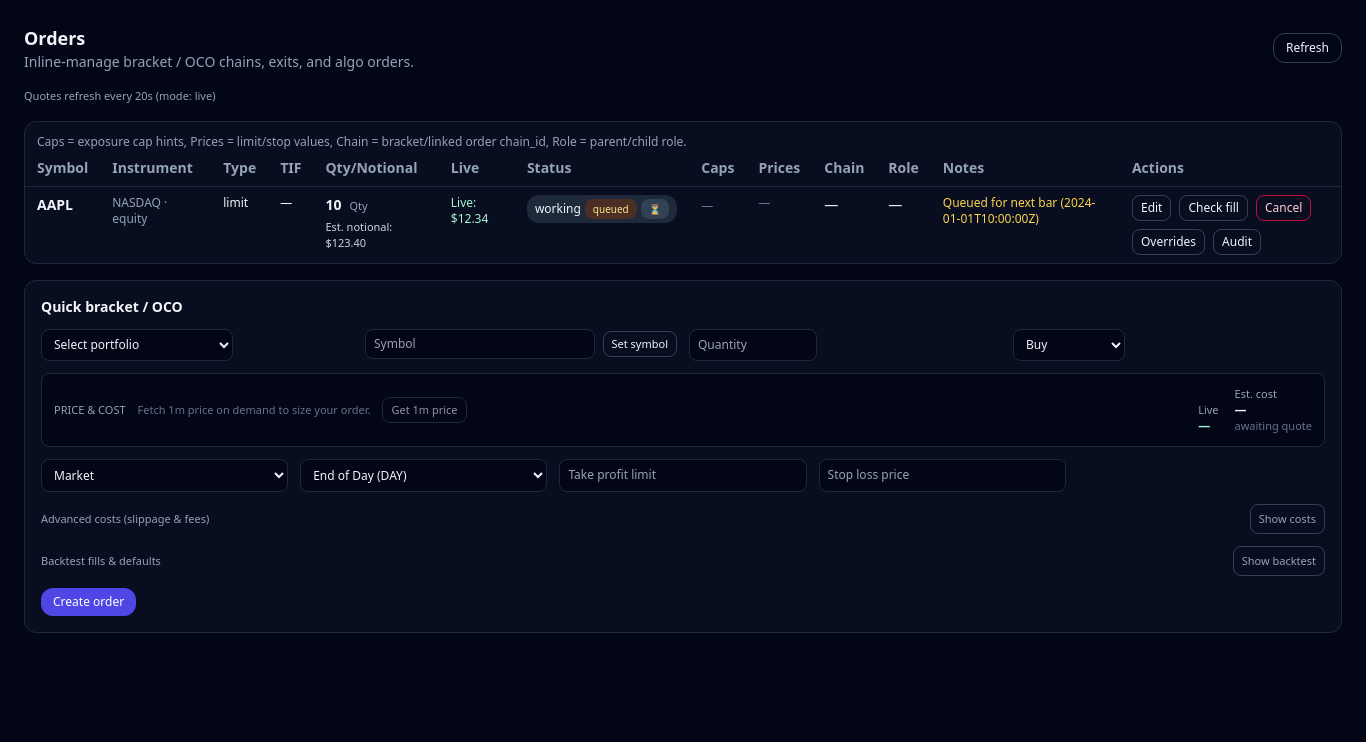
Scenario: Orders page › renders TradingView micro view when symbol is entered
Type "MSFT" into the field with placeholder "Symbol" at x=480, y=344, box [365, 328, 594, 358]
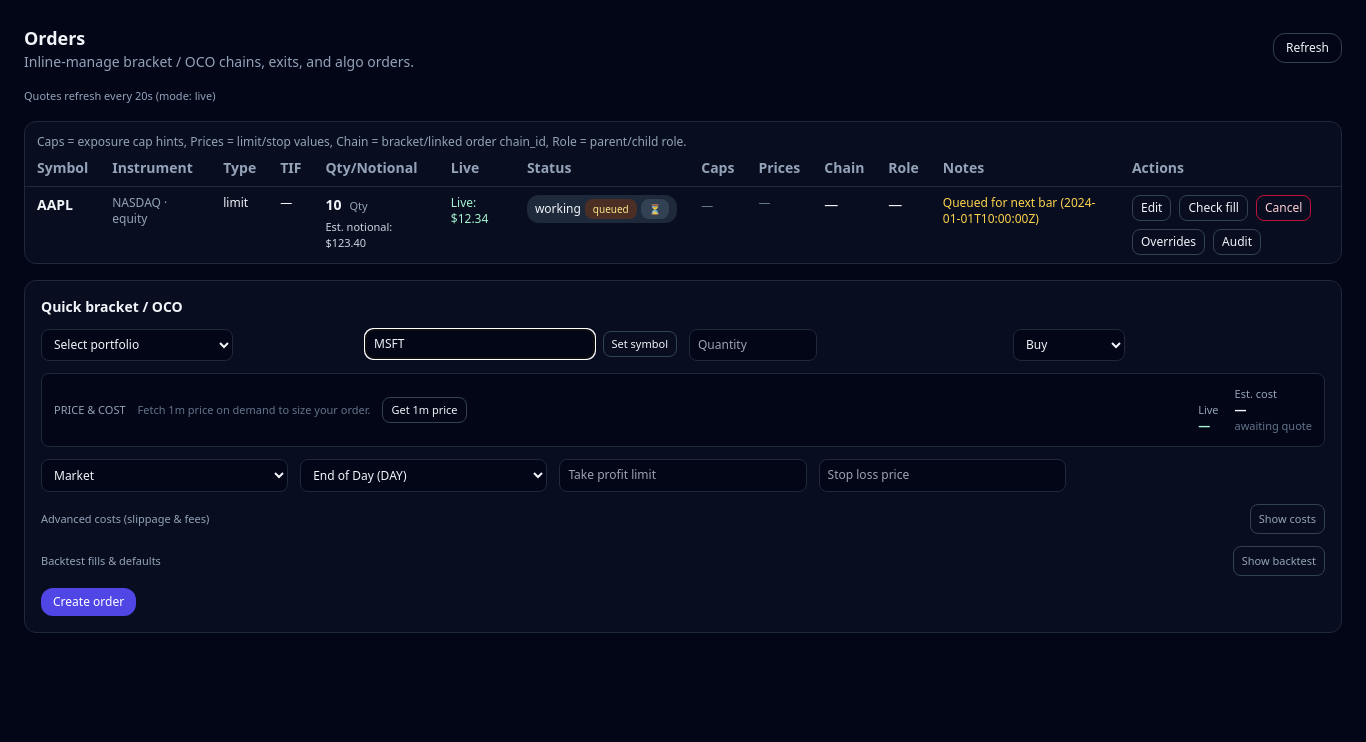
Click the button "Set symbol" at x=640, y=344, box [602, 330, 677, 356]
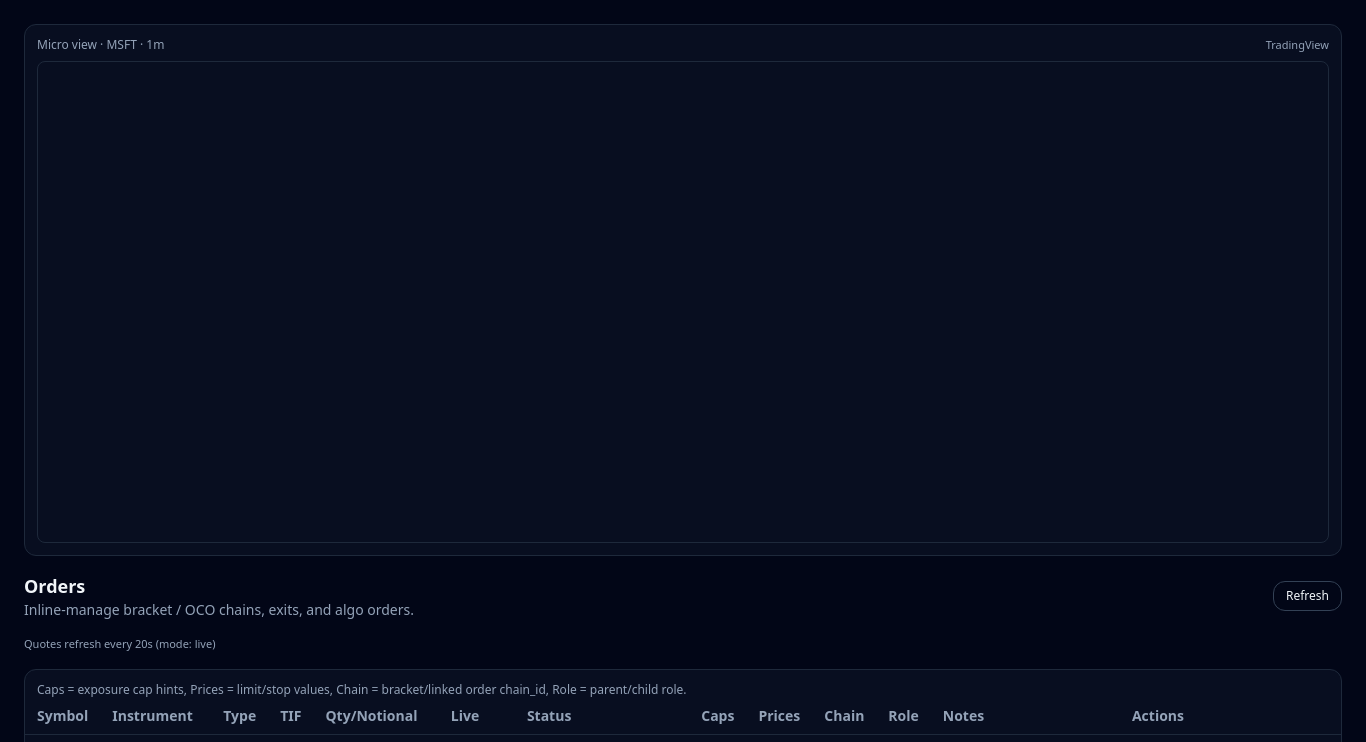
Result: the text "Micro view · MSFT · 1m" is shown at [37, 37, 164, 53]
